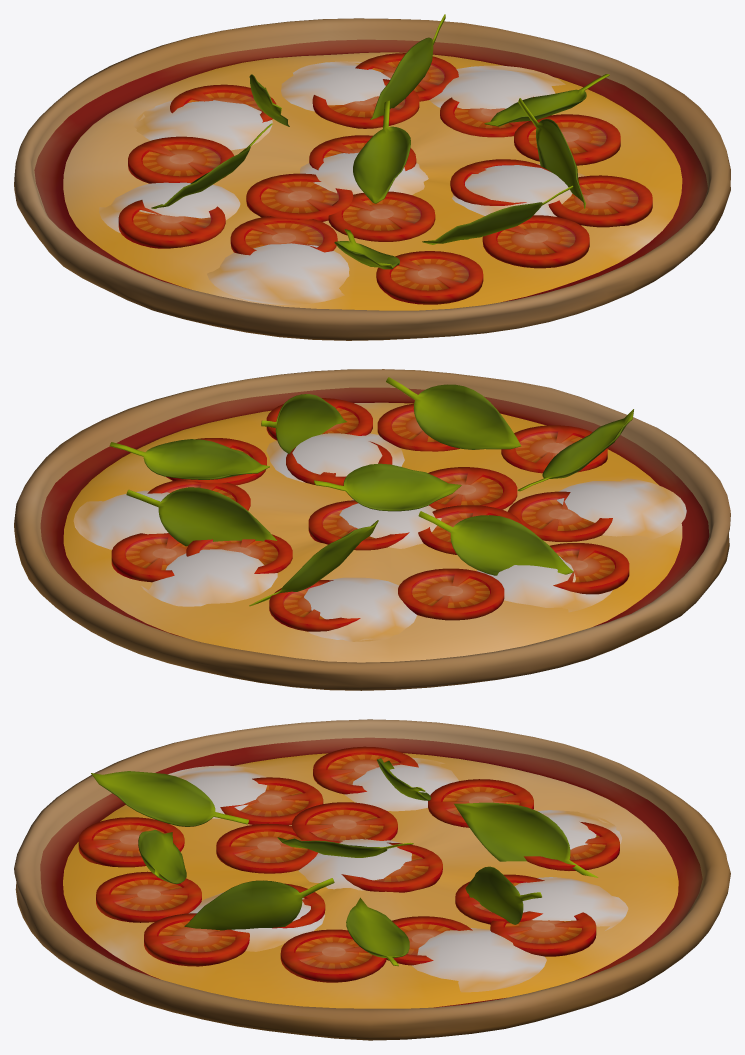
File: Pizza familiar.glb
3 views of the same model, one above another, from view 1: azimuth 30°, elevation 25°; view 2: azimuth 150°, elevation 25°; view 3: azimuth 270°, elevation 25° (orthographic).
Parts seen in each view (by area): view 1: Cube_0; view 2: Cube_0; view 3: Cube_0.
Part boxes in pixels (left/top/right/bottom): Cube_0: left=14, top=14, right=730, bottom=340; Cube_0: left=14, top=369, right=730, bottom=690; Cube_0: left=14, top=719, right=730, bottom=1040.
Bounding box in the file's own units: 0.4341 × 0.0513 × 0.4324.
